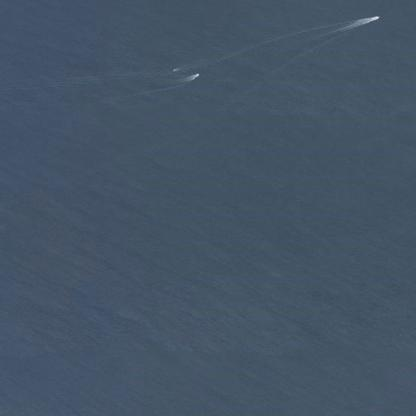ship: (166, 62, 180, 76), (371, 9, 382, 24), (192, 68, 202, 82)
